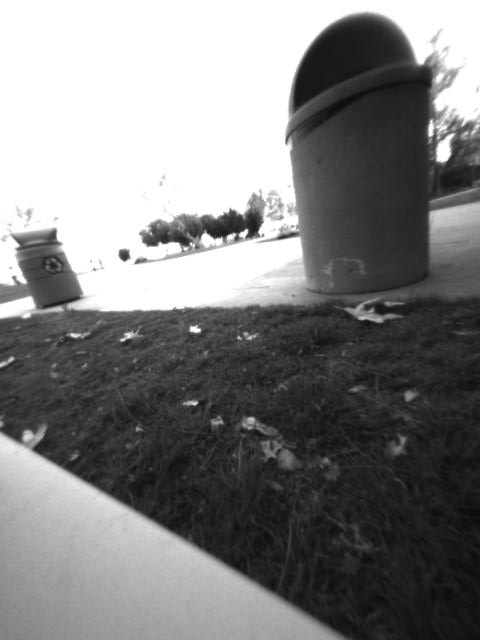trashcan: (277, 15, 449, 289)
